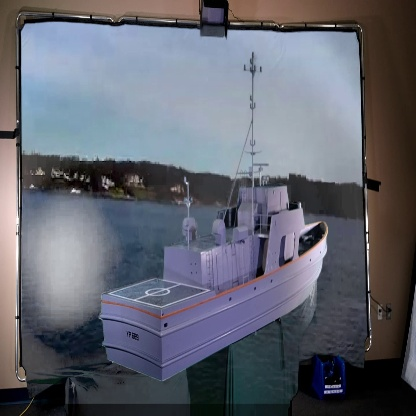YP689: (95, 49, 331, 384)
